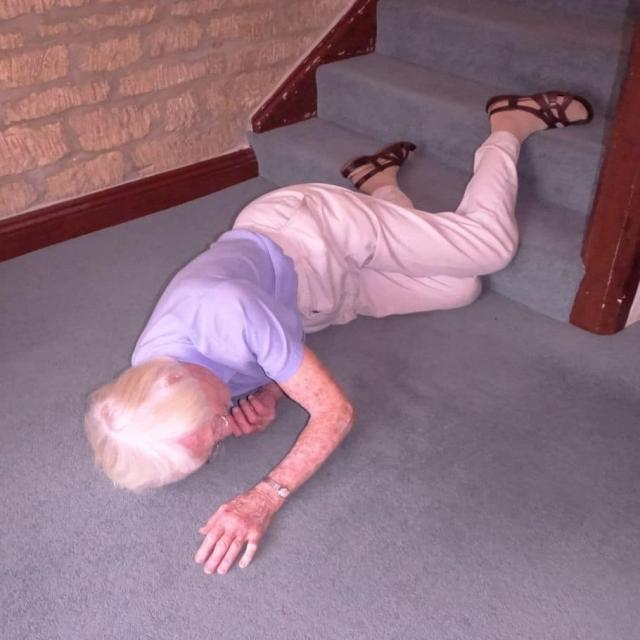Fall-Detected: (62, 77, 602, 583)
